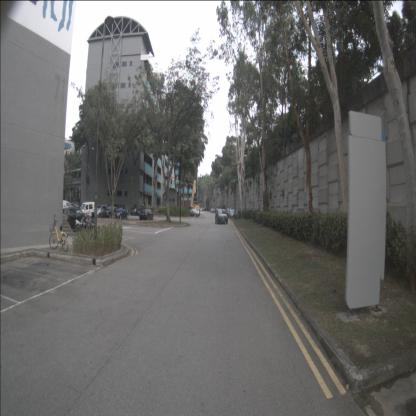vehicle-bicycle: (49, 219, 70, 252)
vehicle-car: (63, 207, 93, 233), (76, 201, 101, 221), (56, 198, 75, 219), (102, 203, 122, 219), (113, 204, 130, 221), (94, 203, 111, 218), (139, 207, 154, 221), (215, 209, 228, 225), (184, 208, 200, 218), (130, 204, 141, 216), (138, 206, 147, 216), (229, 209, 235, 219), (226, 207, 231, 217)
vehicle-motorcycle: (74, 210, 90, 232)
